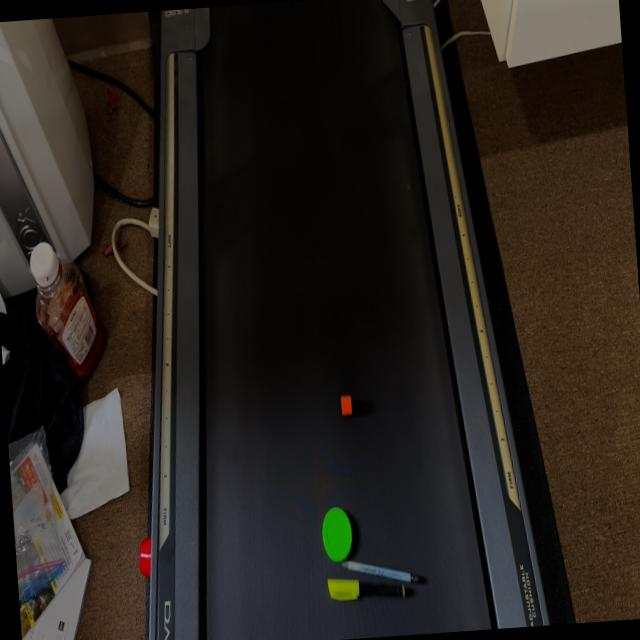Recycle: (321, 504, 354, 564), (339, 394, 352, 416)
Trash: (341, 551, 423, 589), (326, 569, 416, 603)
